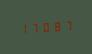eight: (51, 19, 61, 32)
one: (18, 21, 28, 35)
seven: (62, 18, 72, 32), (29, 21, 39, 34)
zero: (40, 20, 50, 33)
